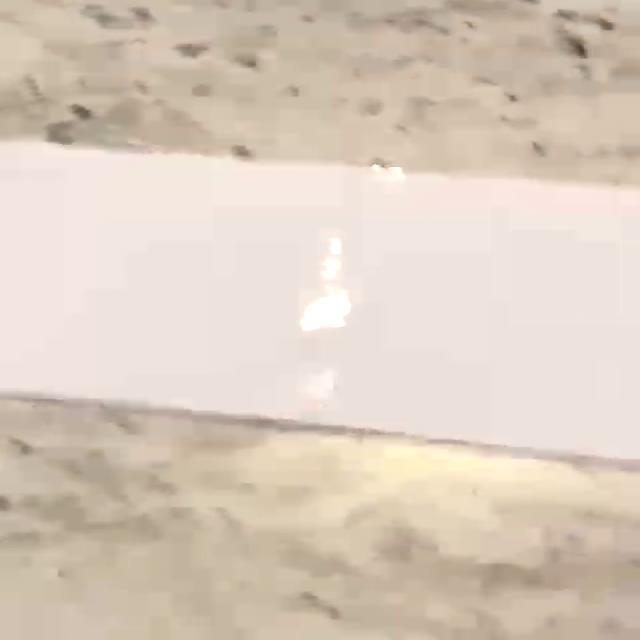road: (0, 142, 637, 458)
